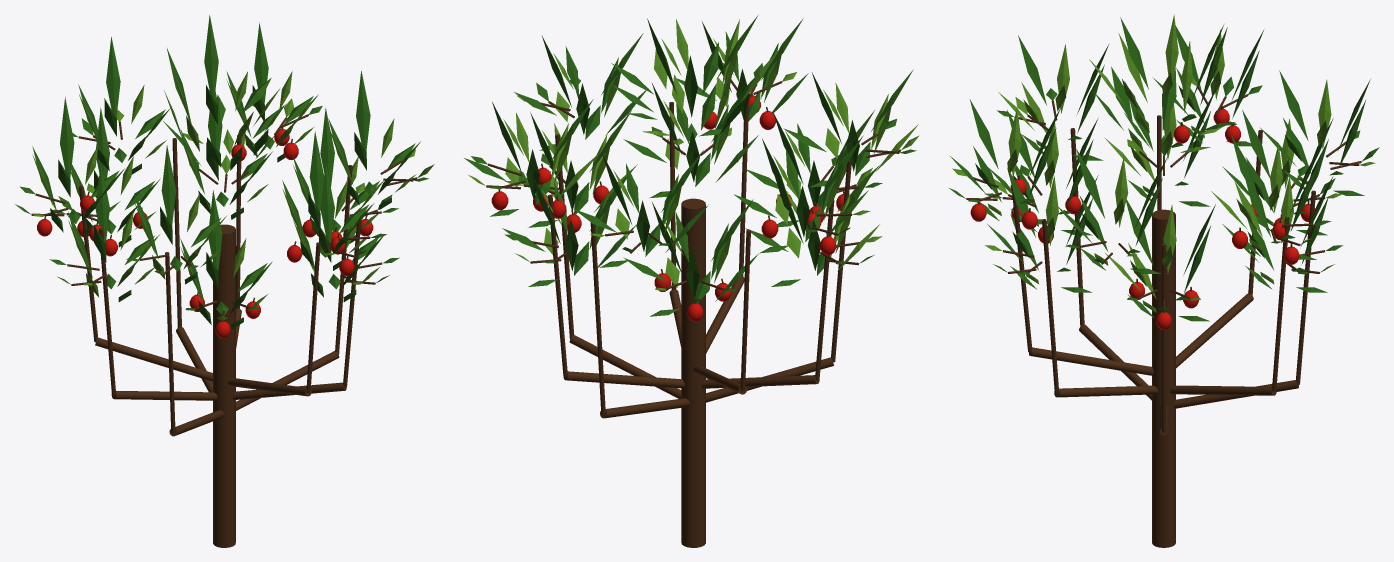
File: Cseresznyefa.obj
The picture shows the model from 3 angles, left to right: view 1: azimuth 30°, elevation 25°; view 2: azimuth 150°, elevation 25°; view 3: azimuth 270°, elevation 25°; orthographic projection. The views are drawn at different scales.
Size of the model in its own units: 3.42 by 4.61 by 3.42.
